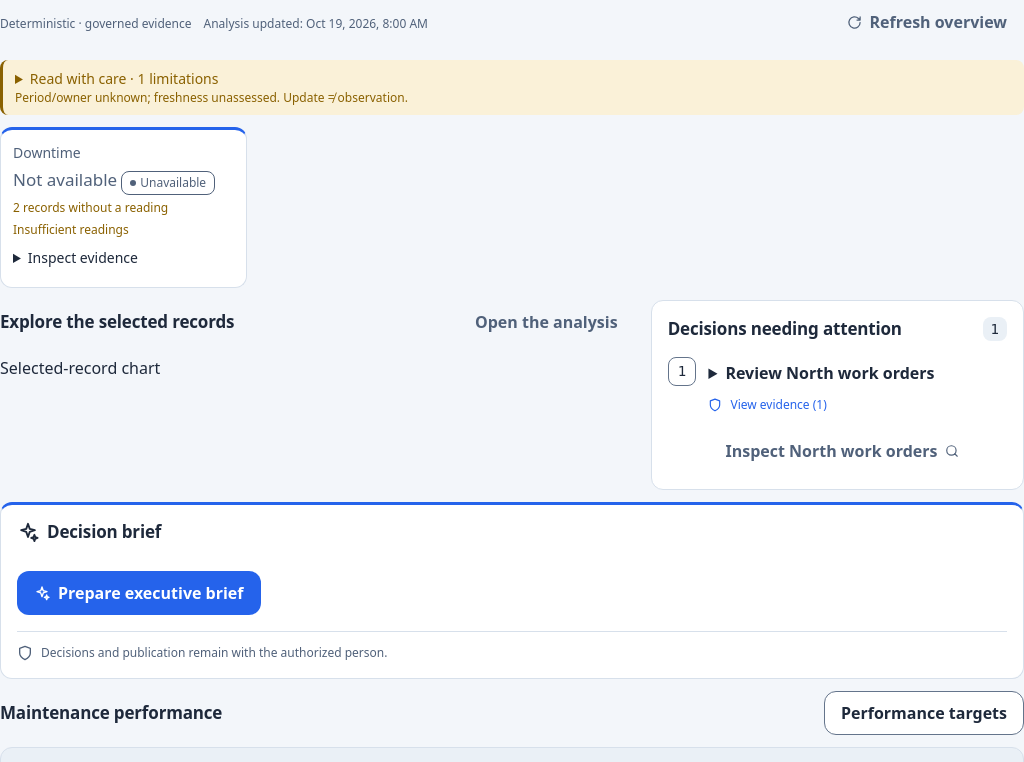
Test case: executive decision overview › hides prepared content when language changes and renders Arabic RTL
This screenshot has width=1024, height=762.
Step 1. Click the button "Prepare executive brief" → (139, 593), box 17,571 -> 260,615
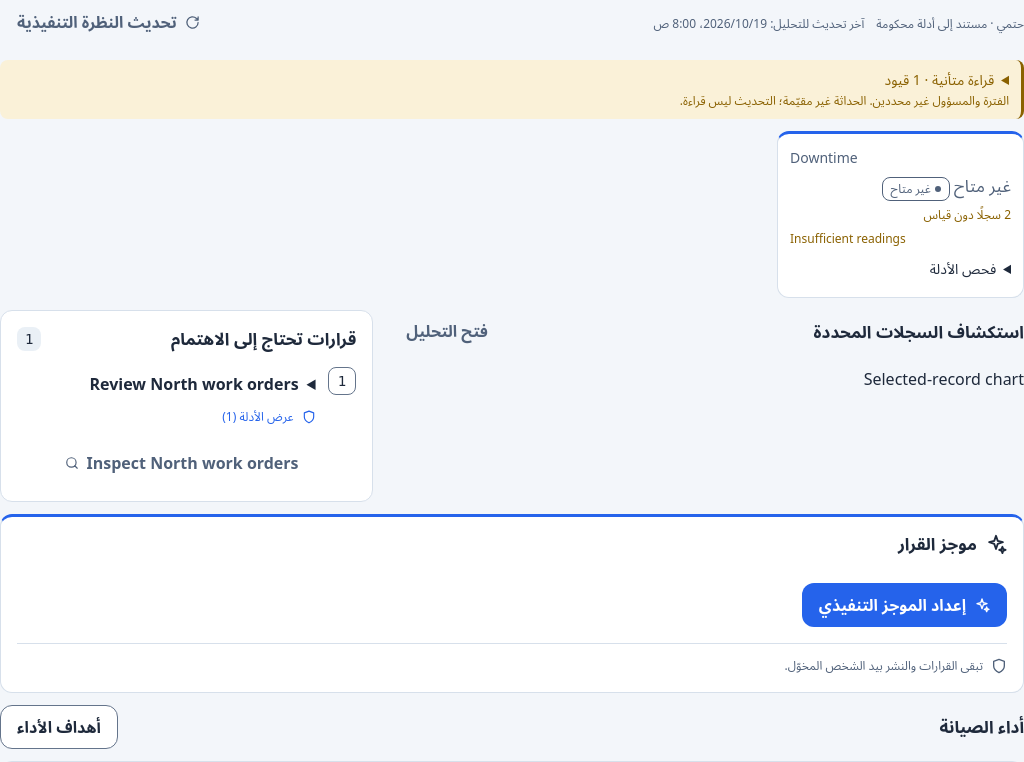
Expected: the text "Who will verify the missing readings?" is not shown
Now the button "إعداد الموجز التنفيذي" is shown
Step 2. Click the button "إعداد الموجز التنفيذي" → (904, 605), box 802,583 -> 1007,627
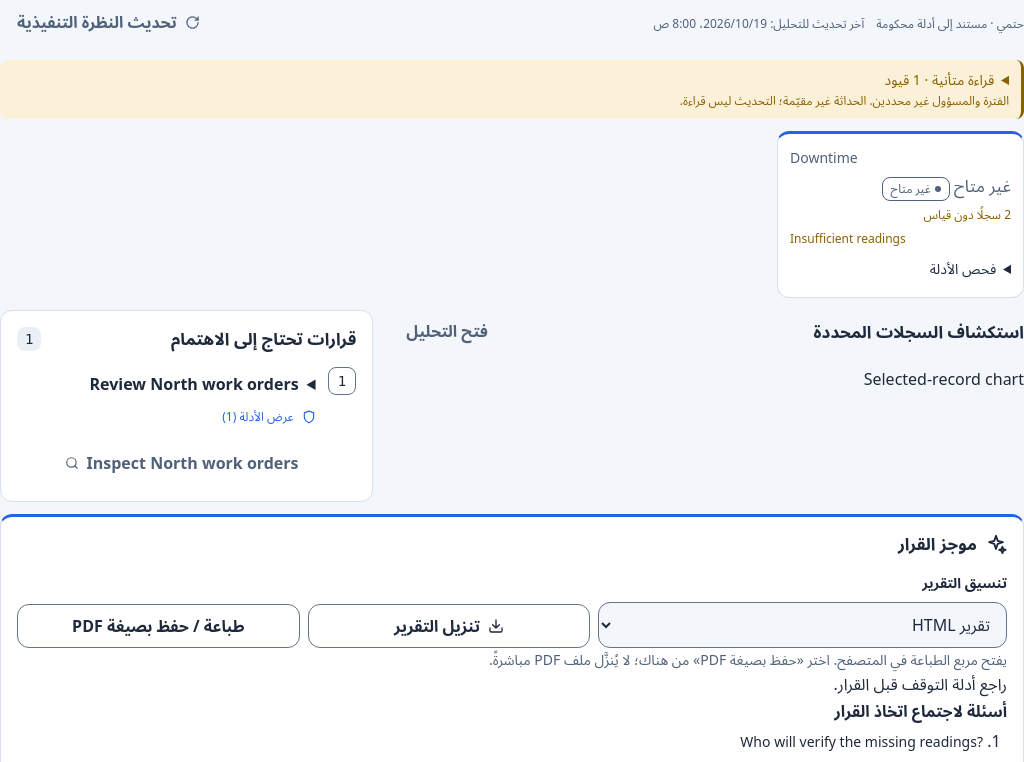
Now the text "راجع أدلة التوقف قبل القرار." is shown, box 834,673 -> 1007,695
